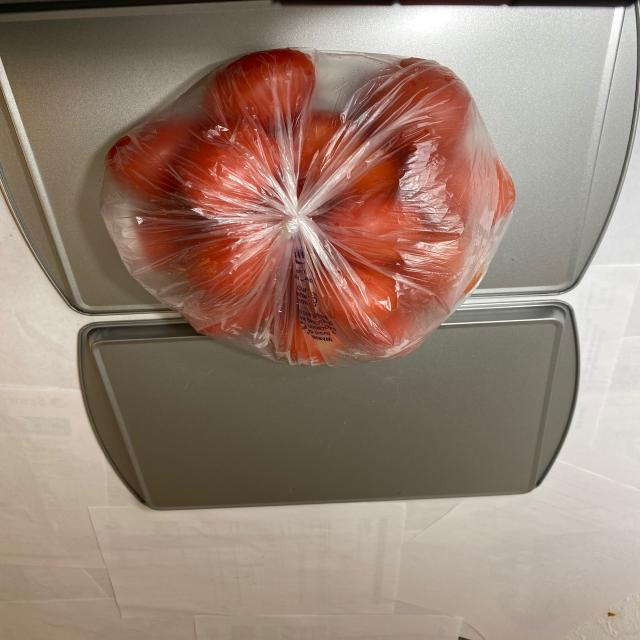tomato: (102, 50, 518, 363)
